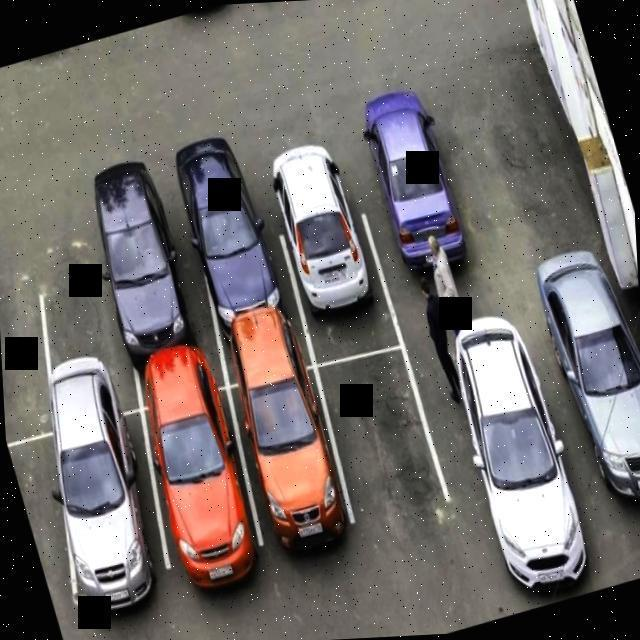car: (33, 407, 188, 620), (139, 382, 269, 602), (228, 362, 361, 569), (185, 186, 312, 387), (96, 218, 225, 399), (276, 190, 398, 356)
free: (316, 345, 459, 556), (21, 248, 148, 420), (7, 432, 93, 614), (0, 273, 70, 442)
